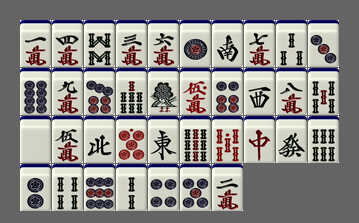0m: (180, 68, 211, 115)
0p: (116, 116, 147, 163)
0s: (212, 116, 243, 163)
1m: (20, 20, 51, 67)
1p: (180, 20, 211, 67)
1s: (148, 68, 179, 115)
1z: (148, 116, 179, 163)
2m: (212, 164, 243, 211)
2p: (20, 164, 51, 211)
2s: (116, 164, 147, 211)
2z: (212, 20, 243, 67)
3m: (116, 20, 147, 67)
3p: (308, 20, 339, 67)
3s: (276, 20, 307, 67)
3z: (244, 68, 275, 115)
4m: (52, 20, 83, 67)
4p: (148, 164, 179, 211)
4s: (52, 164, 83, 211)
4z: (84, 116, 115, 163)
5m: (52, 116, 83, 163)
5p: (180, 164, 211, 211)
5s: (308, 68, 339, 115)
5z: (20, 116, 51, 163)
6m: (148, 20, 179, 67)
6p: (212, 68, 243, 115)
6s: (308, 116, 339, 163)
6z: (276, 116, 307, 163)
7m: (244, 20, 275, 67)
7p: (84, 68, 115, 115)
7s: (116, 68, 147, 115)
7z: (244, 116, 275, 163)
8m: (276, 68, 307, 115)
8p: (20, 68, 51, 115)
8s: (84, 20, 115, 67)
9m: (52, 68, 83, 115)
9p: (84, 164, 115, 211)
9s: (180, 116, 211, 163)
